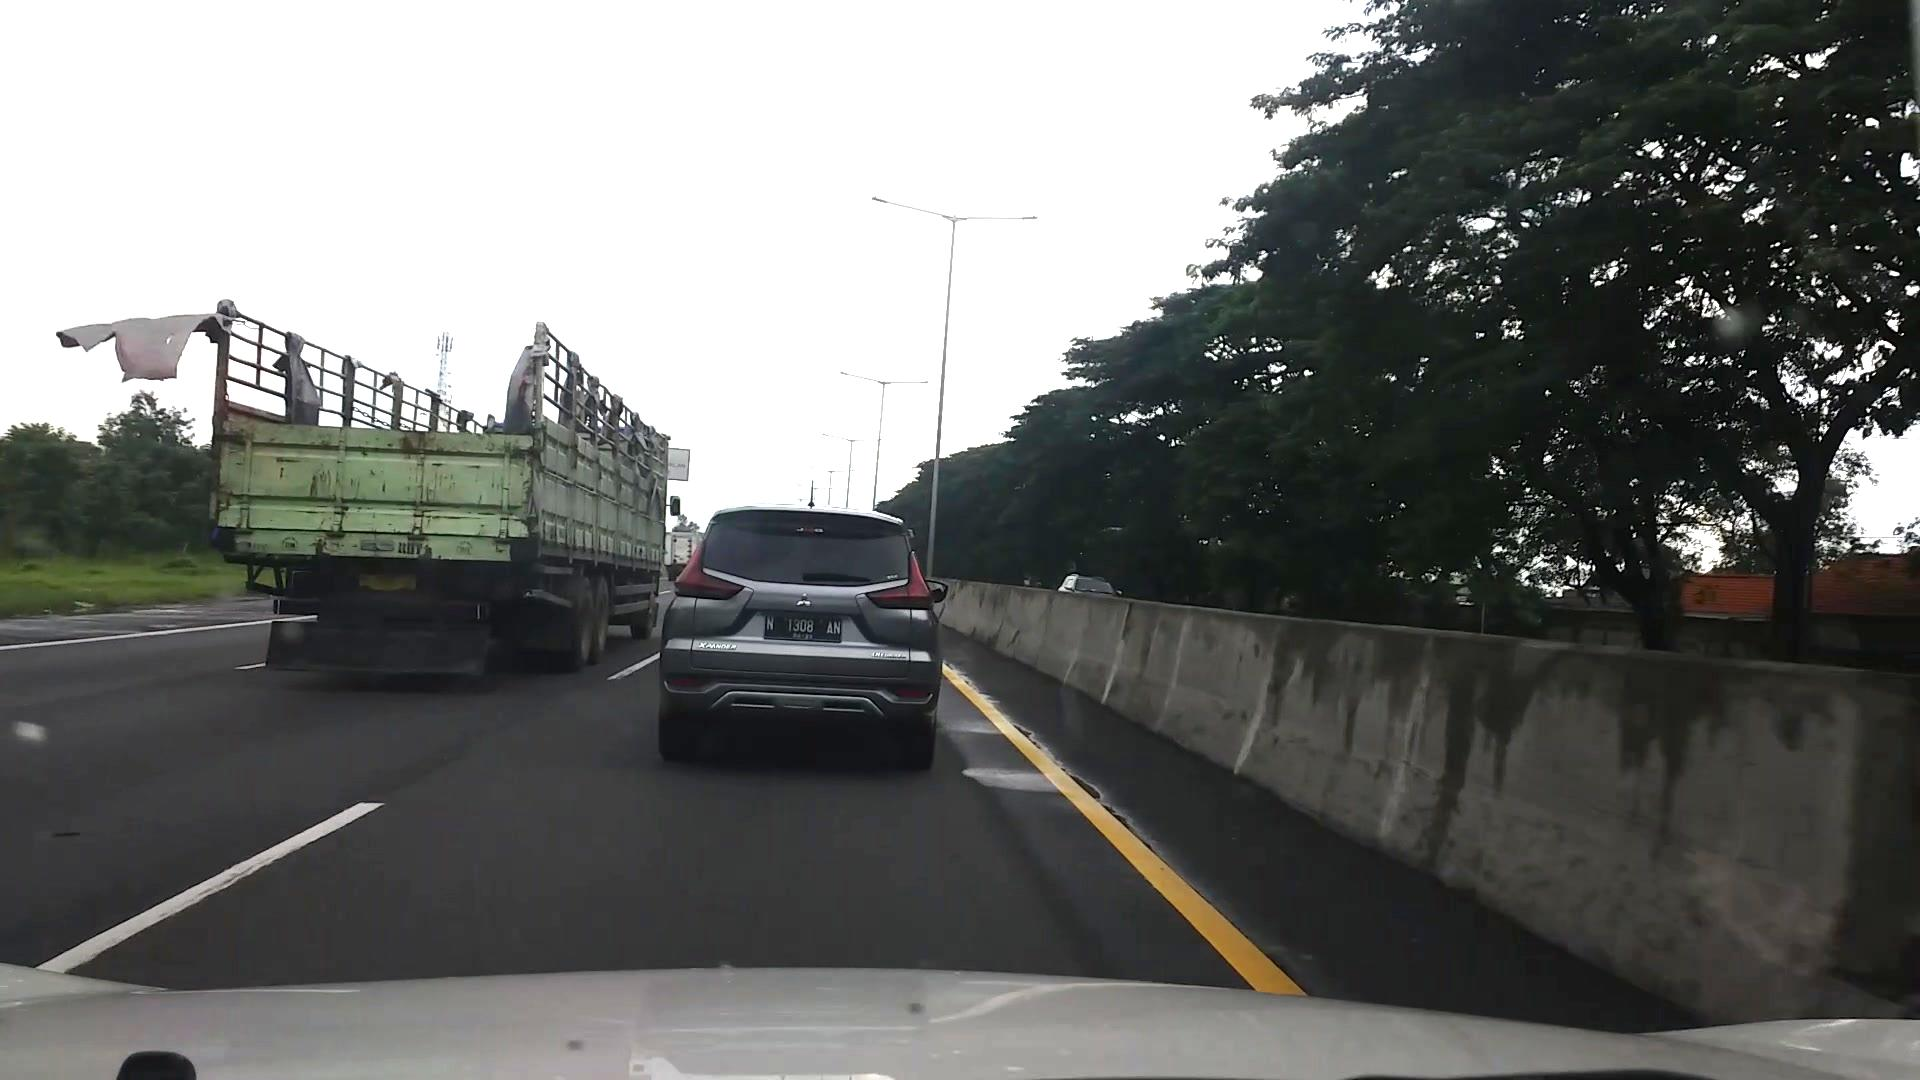plate_positive: (764, 612, 843, 644)
